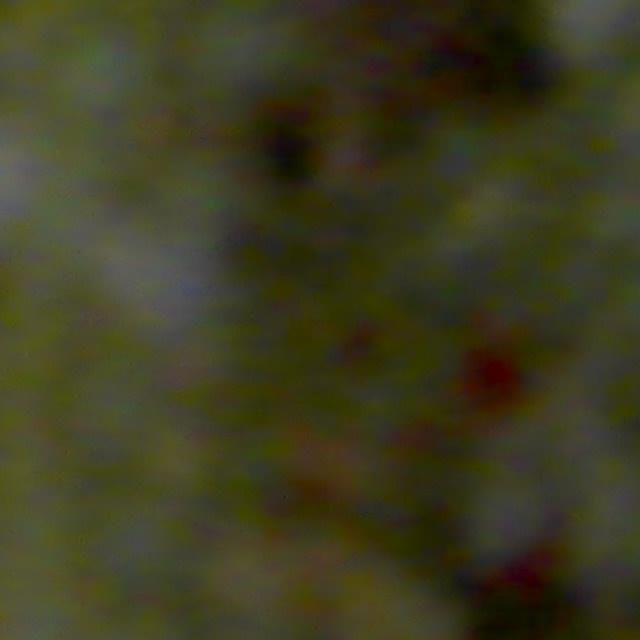SeaGrape: (193, 0, 302, 103), (93, 484, 198, 584), (153, 144, 230, 230)
